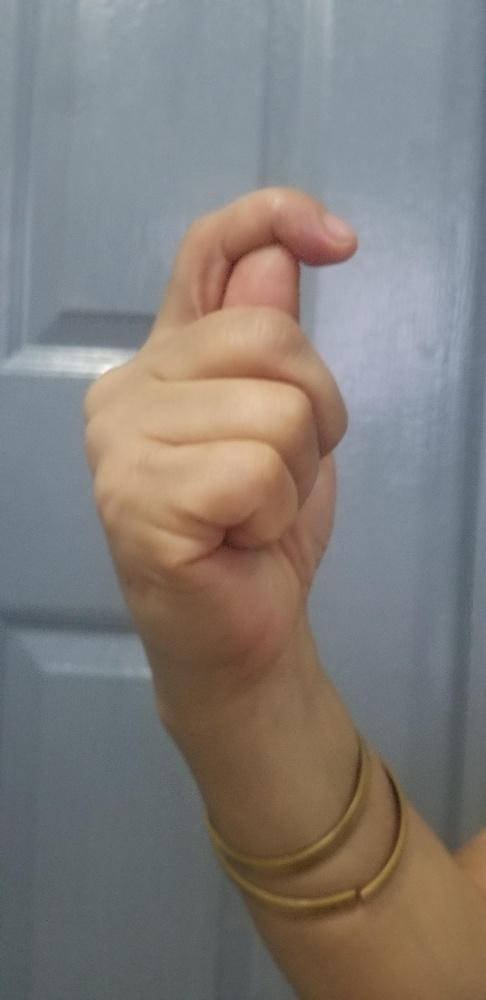t: (78, 184, 361, 714)
